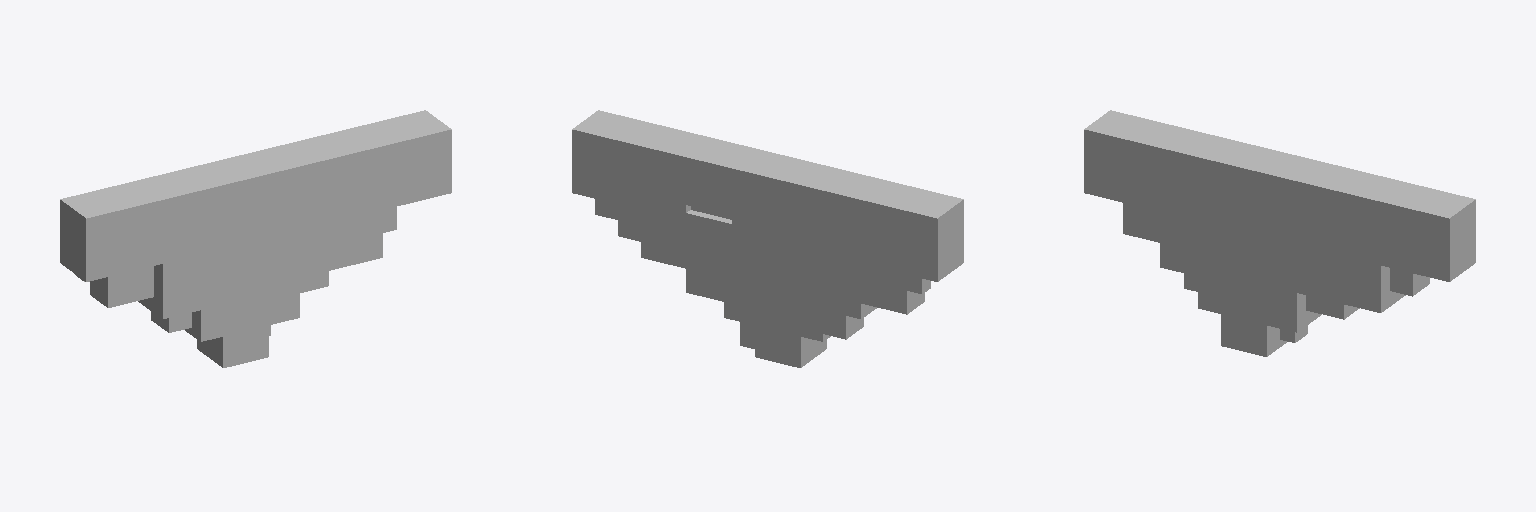
File: cliff-LL2 48x12.obj
3 views of the same model, side by side, from view 1: azimuth 30°, elevation 25°; view 2: azimuth 150°, elevation 25°; view 3: azimuth 330°, elevation 25° (orthographic).
Size of the model in its own units: 48 by 23 by 6.